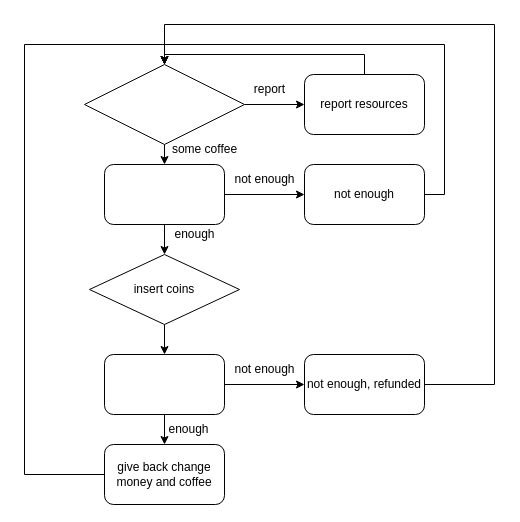
Image size: 520x522. Some labels were removed from this diagram. The shapes that lost their labels are listed below. From the top down, each one's centre as x and y in pixels, then its label:
At point 164,104: "show coffee choices".
At point 164,194: "calculate resources".
At point 164,384: "calculate coins".
